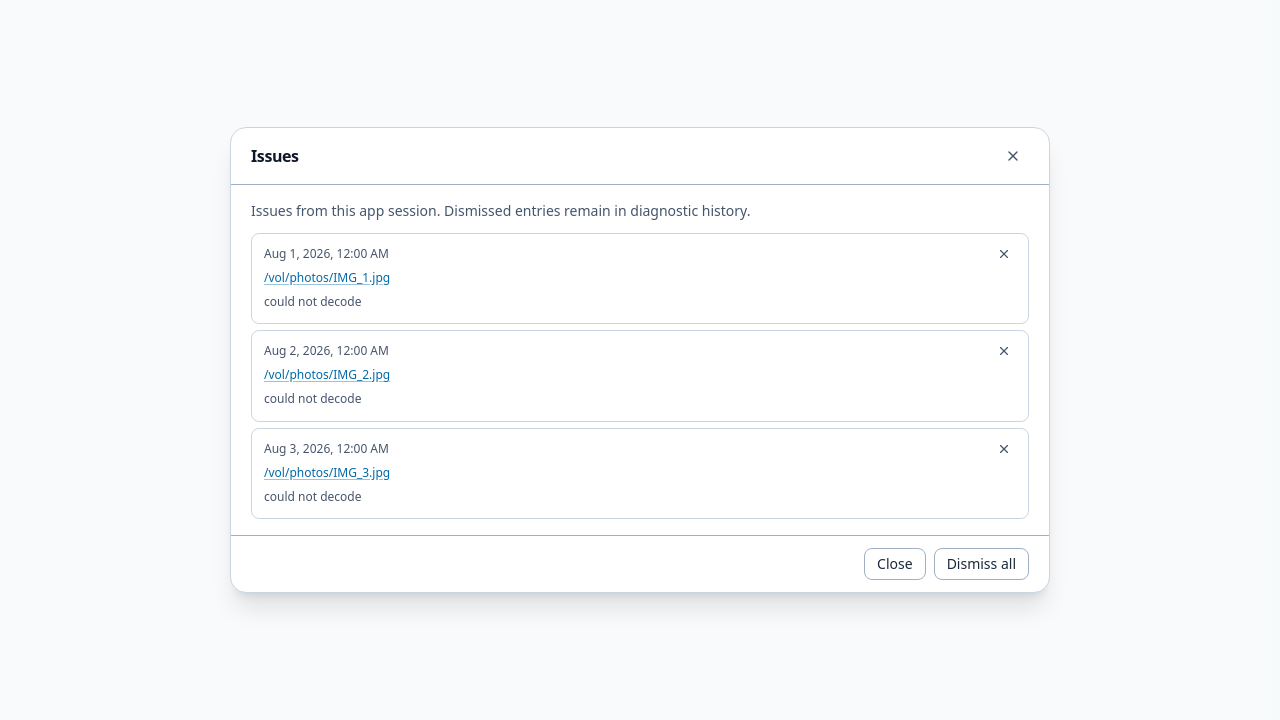
Test: the issues modal › dismisses everything at once
The width and height of the screenshot is (1280, 720).
Click the button "Dismiss all": [981, 564] box [934,548,1029,580]
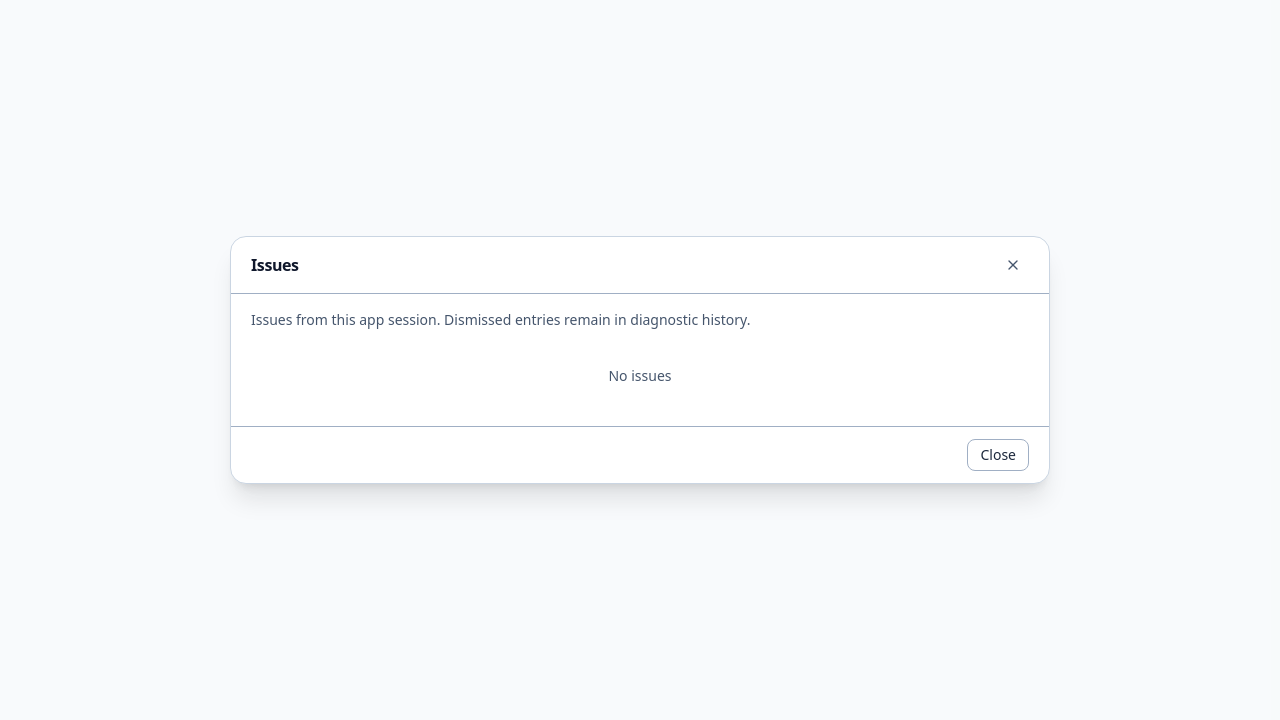
Result: the text "No issues" is shown at [608,366,672,385]
